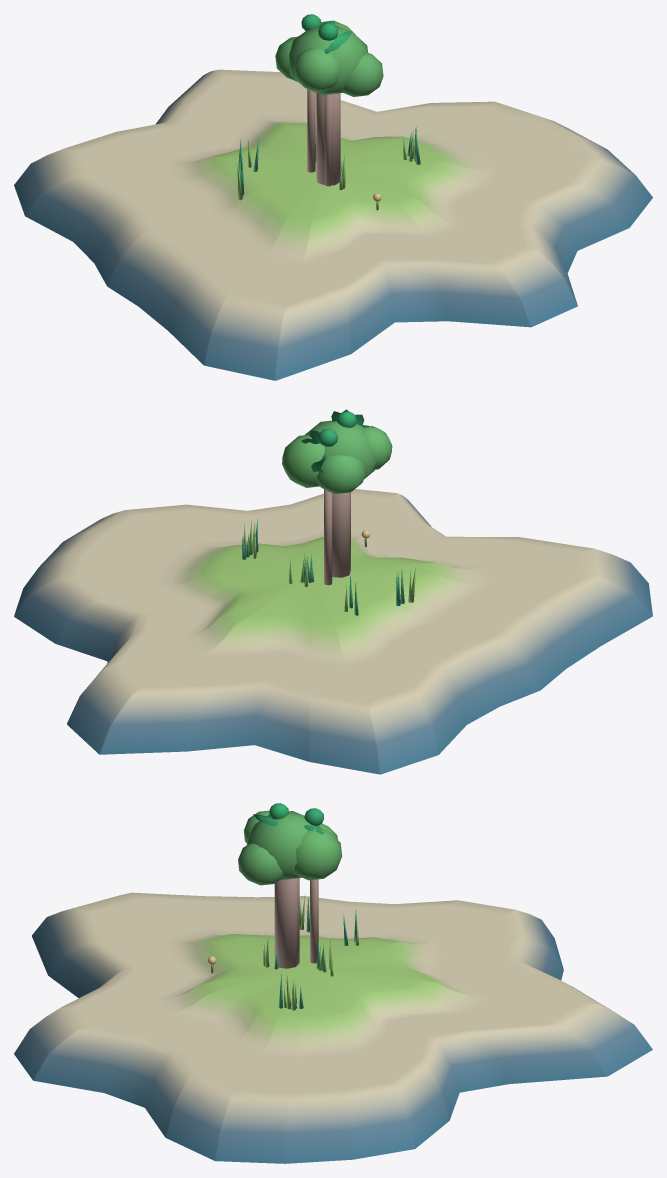
Rendered from terrain_island_02.glb.
3 views of the same model, one above another, from view 1: azimuth 30°, elevation 25°; view 2: azimuth 150°, elevation 25°; view 3: azimuth 270°, elevation 25° (orthographic).
Visible parts, largest first — view 1: island_terrain, veg_tree1_tree_crown_c, veg_tree1_tree_trunk, veg_tree1_tree_crown_2, veg_tree1_tree_crown_1, veg_tree2_palm_trunk, veg_tree0_palm_trunk; view 2: island_terrain, veg_tree1_tree_trunk, veg_tree1_tree_crown_c, veg_tree1_tree_crown_0, veg_tree1_tree_crown_3, veg_tree2_palm_trunk, veg_tree1_tree_crown_2; view 3: island_terrain, veg_tree1_tree_trunk, veg_tree1_tree_crown_c, veg_tree1_tree_crown_0, veg_tree1_tree_crown_1, veg_tree2_palm_trunk.
Boxes of the visible parts, bbox=[...] form: island_terrain: bbox=[14, 69, 652, 380]; veg_tree1_tree_crown_c: bbox=[289, 24, 367, 95]; veg_tree1_tree_trunk: bbox=[316, 93, 340, 185]; veg_tree1_tree_crown_2: bbox=[294, 47, 339, 91]; veg_tree1_tree_crown_1: bbox=[341, 52, 383, 96]; veg_tree2_palm_trunk: bbox=[307, 89, 315, 172]; veg_tree0_palm_trunk: bbox=[324, 94, 331, 186]; island_terrain: bbox=[14, 489, 652, 774]; veg_tree1_tree_trunk: bbox=[332, 492, 350, 577]; veg_tree1_tree_crown_c: bbox=[304, 420, 375, 478]; veg_tree1_tree_crown_0: bbox=[282, 435, 324, 487]; veg_tree1_tree_crown_3: bbox=[317, 455, 365, 494]; veg_tree2_palm_trunk: bbox=[324, 489, 332, 585]; veg_tree1_tree_crown_2: bbox=[364, 426, 392, 469]; island_terrain: bbox=[14, 892, 652, 1163]; veg_tree1_tree_trunk: bbox=[274, 878, 299, 968]; veg_tree1_tree_crown_c: bbox=[246, 811, 320, 879]; veg_tree1_tree_crown_0: bbox=[294, 826, 342, 880]; veg_tree1_tree_crown_1: bbox=[238, 843, 284, 885]; veg_tree2_palm_trunk: bbox=[310, 879, 318, 963].
Size of the model in its own units: 137 by 56.37 by 150.
